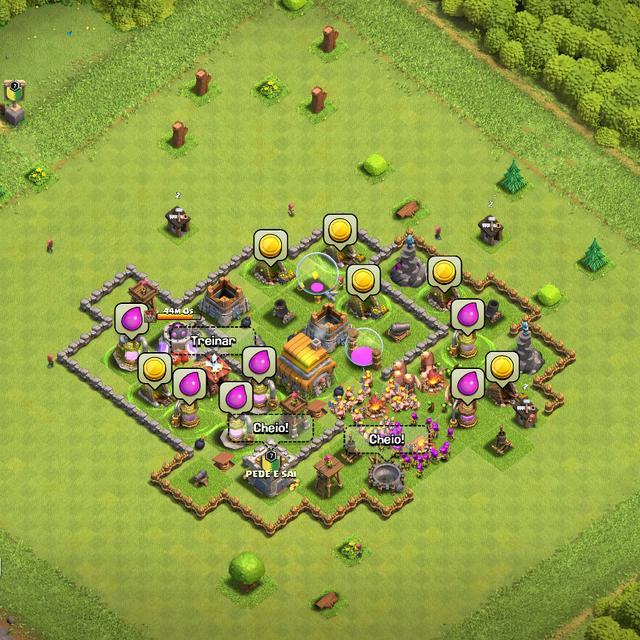Elixir: (114, 303, 150, 341), (451, 368, 485, 406), (451, 299, 485, 336), (173, 368, 206, 406), (220, 381, 253, 419), (242, 347, 275, 383)
coin: (322, 214, 357, 251), (427, 255, 462, 292), (346, 265, 381, 301), (487, 350, 520, 388), (254, 230, 287, 266), (138, 352, 170, 387)
